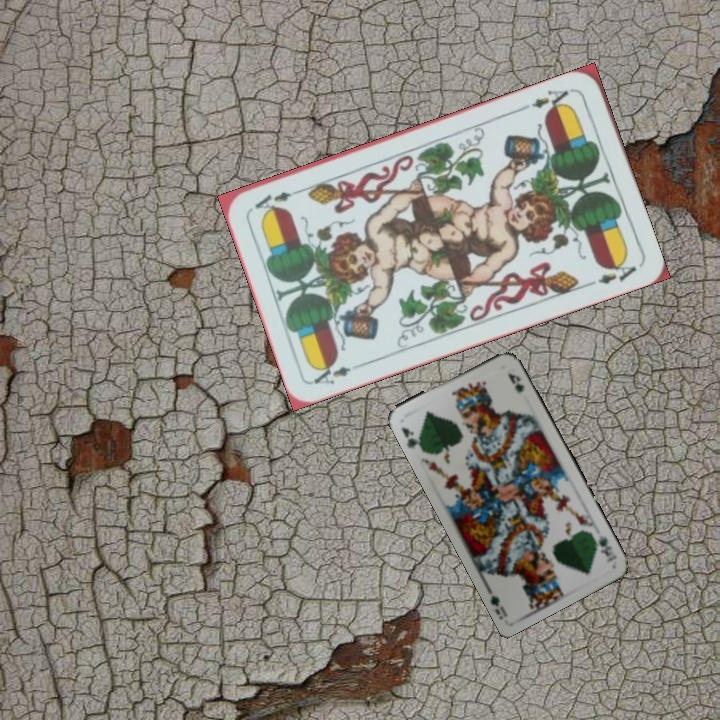EA: (309, 358, 366, 387), (527, 84, 577, 115)
GK: (587, 529, 619, 565), (397, 423, 424, 452)
